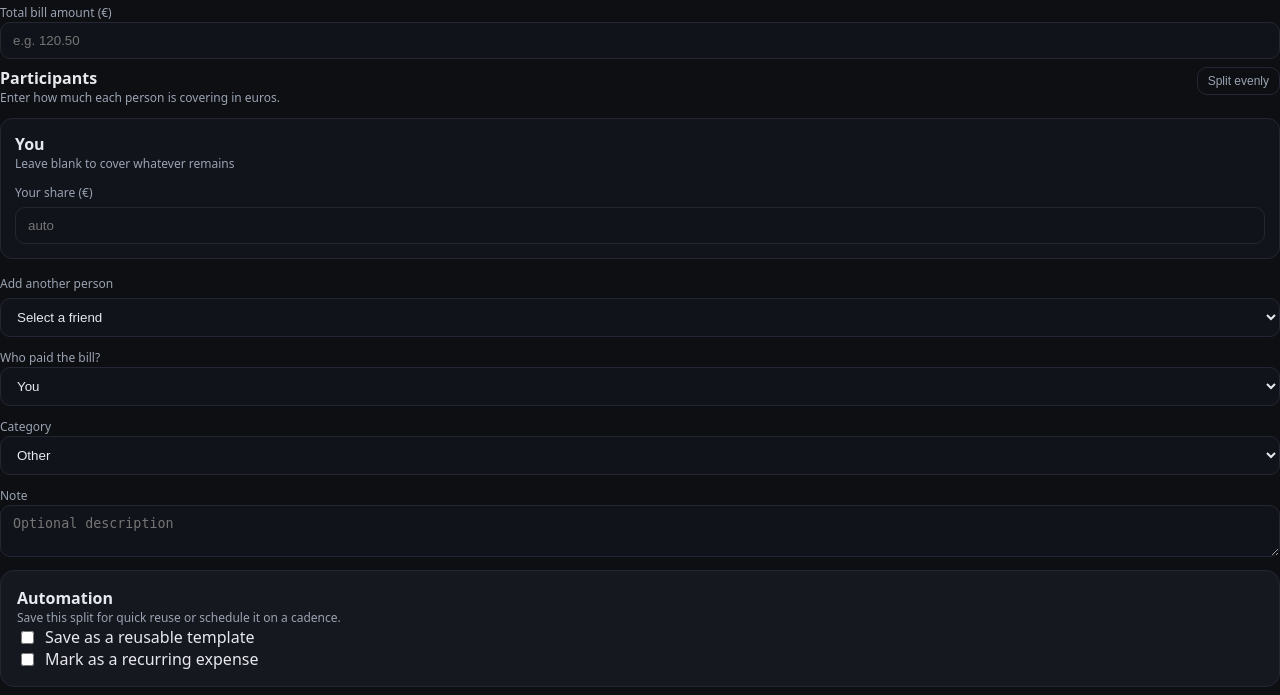
SplitForm › Split evenly › split evenly button is enabled when bill amount is entered
Step 1. Type "100" into the number field labelled "Total bill amount (€)" → (640, 40), box [0, 22, 1279, 59]
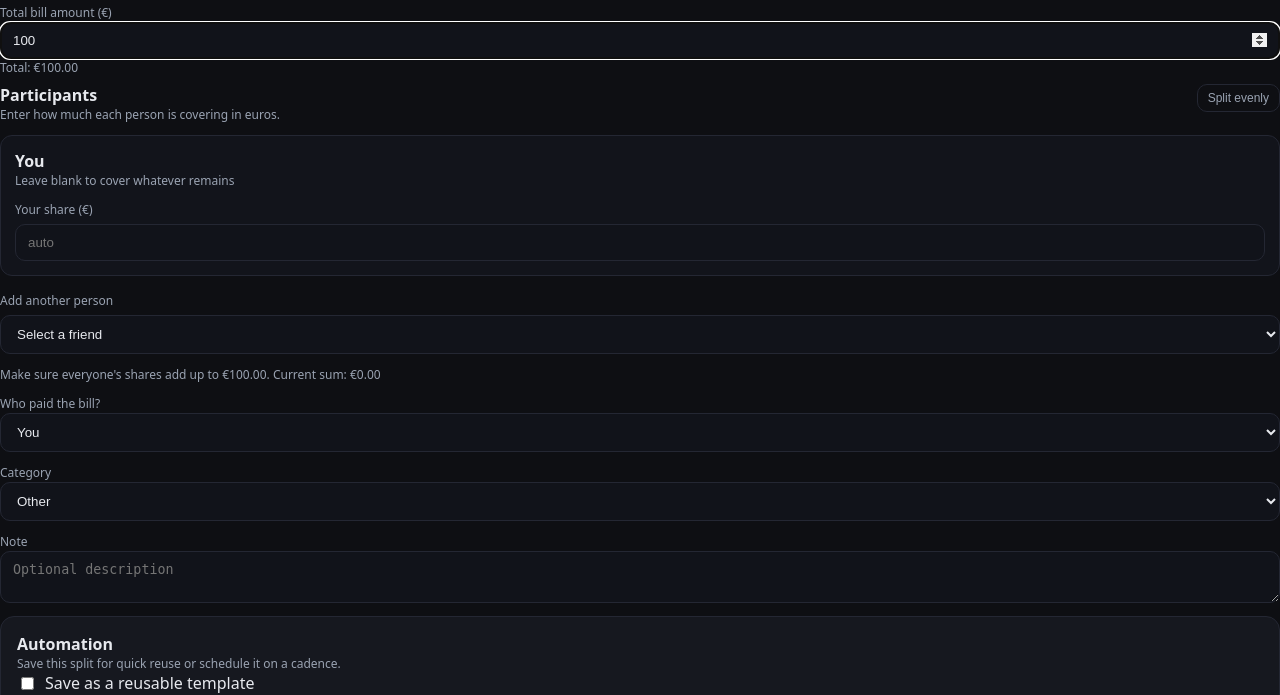
Check: the button "Split evenly" is enabled, box [1197, 84, 1279, 112]
